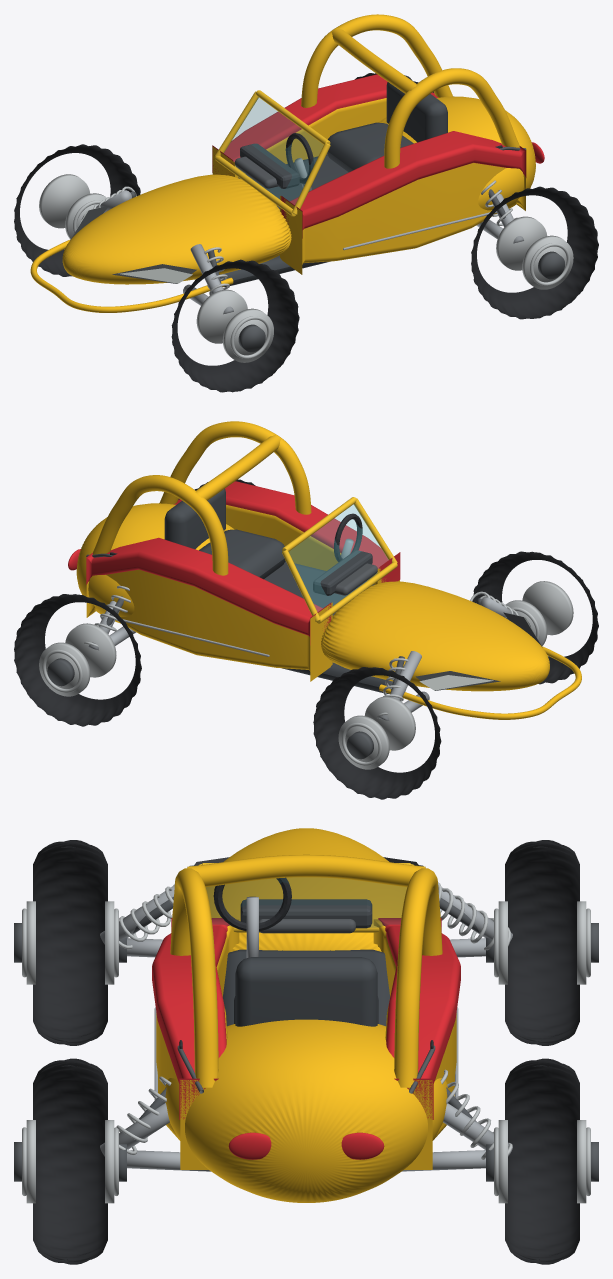
File: buggy-b-refined.glb
3 views of the same model, one above another, from view 1: azimuth 30°, elevation 25°; view 2: azimuth 150°, elevation 25°; view 3: azimuth 270°, elevation 25° (orthographic). The views are drawn at different scales.
Visible parts, largest first — view 1: B aerodynamic tapered nose, B formed side fairing, B red sculpted shoulder, B rear -1 detailed tread, B front -1 detailed tread, Translucent cyan windscreen, B red sculpted shoulder.001, B integrated rear engine cowling, B roll cage side, B roll cage side.001, B formed side fairing.001, B front 1 detailed tread (+24 smaller); view 2: B aerodynamic tapered nose, B formed side fairing.001, B red sculpted shoulder.001, B rear 1 detailed tread, B front 1 detailed tread, Translucent cyan windscreen, B red sculpted shoulder, B integrated rear engine cowling, B roll cage side.001, B roll cage side, B front -1 detailed tread, B formed side fairing (+25 smaller); view 3: B integrated rear engine cowling, B front -1 detailed tread, B rear -1 detailed tread, B rear 1 detailed tread, B front 1 detailed tread, B aerodynamic tapered nose, Seat back, B roll cage side, B roll cage side.001, B red sculpted shoulder.001, B red sculpted shoulder, Translucent cyan windscreen (+29 smaller).
Boxes of the visible parts, bbox=[...] form: B aerodynamic tapered nose: bbox=[62, 174, 291, 284]; B formed side fairing: bbox=[280, 163, 525, 274]; B red sculpted shoulder: bbox=[281, 131, 526, 238]; B rear -1 detailed tread: bbox=[471, 186, 598, 319]; B front -1 detailed tread: bbox=[171, 259, 299, 392]; Translucent cyan windscreen: bbox=[224, 97, 323, 204]; B red sculpted shoulder.001: bbox=[212, 74, 438, 173]; B integrated rear engine cowling: bbox=[378, 96, 535, 210]; B roll cage side: bbox=[384, 68, 519, 168]; B roll cage side.001: bbox=[301, 14, 452, 107]; B formed side fairing.001: bbox=[212, 98, 386, 177]; B front 1 detailed tread: bbox=[14, 144, 140, 276]; B aerodynamic tapered nose: bbox=[321, 581, 549, 691]; B formed side fairing.001: bbox=[86, 569, 332, 681]; B red sculpted shoulder.001: bbox=[86, 537, 331, 645]; B rear 1 detailed tread: bbox=[14, 594, 141, 726]; B front 1 detailed tread: bbox=[313, 667, 441, 799]; Translucent cyan windscreen: bbox=[289, 504, 388, 611]; B red sculpted shoulder: bbox=[174, 481, 400, 582]; B integrated rear engine cowling: bbox=[76, 503, 234, 623]; B roll cage side.001: bbox=[93, 475, 228, 575]; B roll cage side: bbox=[159, 421, 311, 514]; B front -1 detailed tread: bbox=[472, 551, 598, 684]; B formed side fairing: bbox=[226, 505, 399, 584]; B integrated rear engine cowling: bbox=[164, 1019, 448, 1202]; B front -1 detailed tread: bbox=[33, 840, 107, 1045]; B rear -1 detailed tread: bbox=[33, 1058, 107, 1264]; B rear 1 detailed tread: bbox=[505, 1058, 579, 1264]; B front 1 detailed tread: bbox=[505, 840, 579, 1045]; B aerodynamic tapered nose: bbox=[206, 828, 406, 951]; Seat back: bbox=[235, 957, 377, 1026]; B roll cage side: bbox=[170, 868, 218, 1087]; B roll cage side.001: bbox=[394, 868, 442, 1087]; B red sculpted shoulder.001: bbox=[378, 918, 460, 1119]; B red sculpted shoulder: bbox=[152, 918, 229, 1119]; Translucent cyan windscreen: bbox=[206, 877, 406, 927].
Size of the model in its own units: 3.05 by 1.4 by 2.18.
